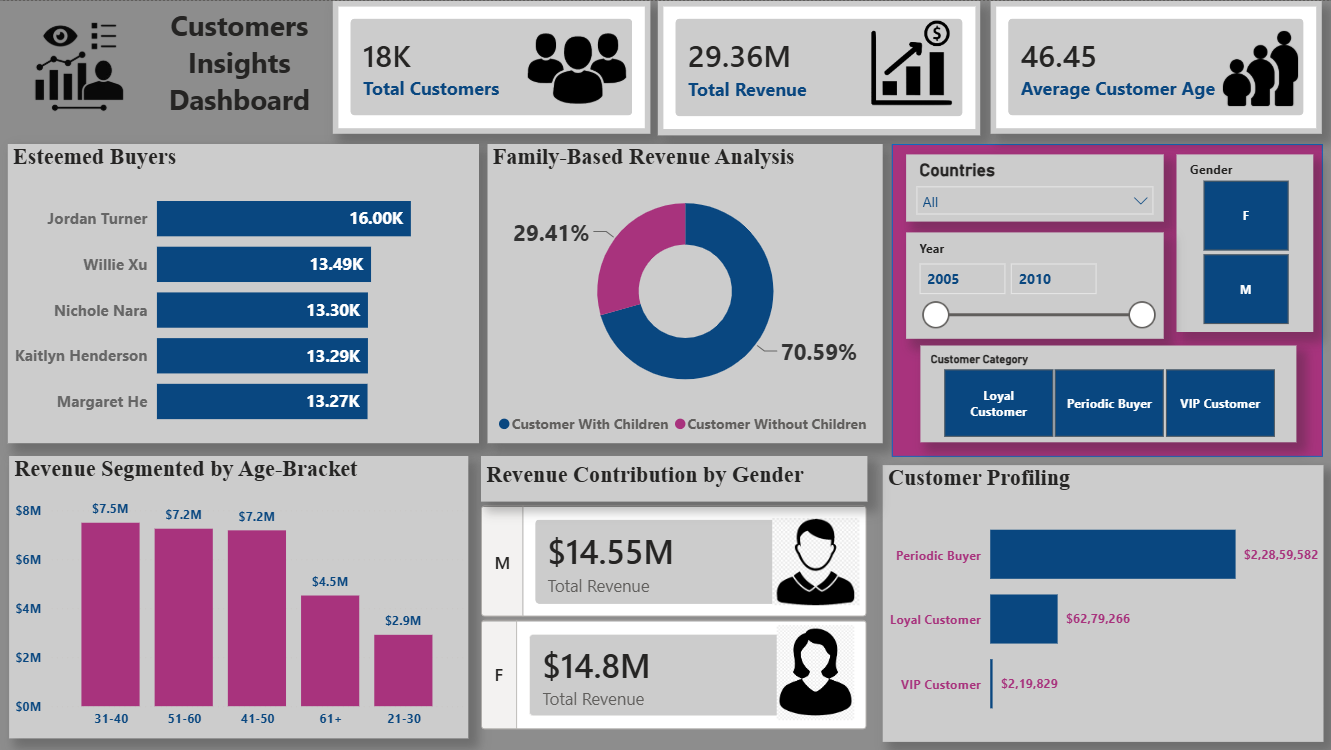

The dashboard page shown, as its layout file describes it:
{"tool":"powerbi","page":{"name":"Page 1","canvas":[1280,720],"ordinal":0},"visuals":[{"type":"cardVisual","fields":{"Data":["DimCustomer.Total Customers"]},"box":[319.8,0,305,127.6],"z":0},{"type":"cardVisual","fields":{"Data":["DimCustomer.Total Revenue"]},"box":[632.9,0,310.4,129],"z":1000},{"type":"barChart","title":"Esteemed Buyers","fields":{"Category":["DimCustomer.Full Name"],"Y":["DimCustomer.Total Revenue"]},"box":[7.7,136.9,453.2,288],"z":2000},{"type":"donutChart","title":"Family-Based Revenue Analysis","fields":{"Category":["DimCustomer.Children Status"],"Y":["DimCustomer.Total Revenue"]},"box":[468.7,136.9,379.6,288],"z":3000},{"type":"clusteredColumnChart","title":"Revenue Segmented by Age-Bracket","fields":{"Category":["DimCustomer.Age Group"],"Y":["DimCustomer.Total Revenue"]},"box":[9,437.8,441.6,271.2],"z":4000},{"type":"cardVisual","fields":{"Rows":["DimCustomer.Gender"],"Data":["DimCustomer.Total Revenue"]},"box":[462.3,574.6,371.9,145.9],"z":5000},{"type":"barChart","title":"Customer Profiling","fields":{"Y":["DimCustomer.Total Revenue"],"Category":["DimCustomer.Customer Category"]},"box":[848.4,446.8,423.5,266],"z":6000},{"type":"cardVisual","fields":{"Rows":["DimCustomer.Gender"],"Data":["DimCustomer.Total Revenue"]},"box":[462.3,464.9,371.9,147.2],"z":7000},{"type":"image","box":[733.5,600.5,100.7,91.7],"z":8000},{"type":"image","box":[742.5,492,83.9,93],"z":9000},{"type":"textbox","box":[139.8,0,180.1,128],"z":10000},{"type":"image","box":[0,0,158.8,117.5],"z":11000},{"type":"shape","box":[857.4,136.9,414.5,300.9],"z":12000},{"type":"slicer","fields":{"Values":["DimGeography.EnglishCountryRegionName"]},"box":[871.6,147.2,247.9,64.6],"z":13000},{"type":"slicer","fields":{"Values":["DimCustomer.Gender"]},"box":[1131.2,147.2,131.7,170.5],"z":14000},{"type":"slicer","fields":{"Values":["DimDate.CalendarYear"]},"box":[871.6,222.1,247.9,102],"z":15000},{"type":"slicer","fields":{"Values":["DimCustomer.Customer Category"]},"box":[884.5,331.9,361.6,93],"z":16000},{"type":"textbox","box":[462.3,437.8,371.9,43.9],"z":17000},{"type":"cardVisual","fields":{"Data":["DimCustomer.Average Age"]},"box":[952.7,0,318.4,127.6],"z":18000},{"type":"image","box":[507.5,28.4,94.3,72.3],"z":19000},{"type":"image","box":[826.4,19.4,100.7,81.4],"z":20000},{"type":"image","box":[1160.9,28.4,102,72.3],"z":21000}]}

Visuals, with their boxes in screenshot pixels (x1, y1, x2, y2), scaled from the page's 1280x720 canvas onto the 1331x750 screenshot:
cardVisual - DimCustomer.Total Customers: <box>333,0,650,133</box>
cardVisual - DimCustomer.Total Revenue: <box>658,0,981,134</box>
"Esteemed Buyers" barChart: <box>8,143,479,443</box>
"Family-Based Revenue Analysis" donutChart: <box>487,143,882,443</box>
"Revenue Segmented by Age-Bracket" clusteredColumnChart: <box>9,456,469,739</box>
cardVisual - DimCustomer.Gender x DimCustomer.Total Revenue: <box>481,599,867,749</box>
"Customer Profiling" barChart: <box>882,465,1323,742</box>
cardVisual - DimCustomer.Gender x DimCustomer.Total Revenue: <box>481,484,867,638</box>
image: <box>763,626,867,721</box>
image: <box>772,512,859,609</box>
textbox: <box>145,0,333,133</box>
image: <box>0,0,165,122</box>
shape: <box>892,143,1323,456</box>
slicer - DimGeography.EnglishCountryRegionName: <box>906,153,1164,221</box>
slicer - DimCustomer.Gender: <box>1176,153,1313,331</box>
slicer - DimDate.CalendarYear: <box>906,231,1164,338</box>
slicer - DimCustomer.Customer Category: <box>920,346,1296,443</box>
textbox: <box>481,456,867,502</box>
cardVisual - DimCustomer.Average Age: <box>991,0,1322,133</box>
image: <box>528,30,626,105</box>
image: <box>859,20,964,105</box>
image: <box>1207,30,1313,105</box>
